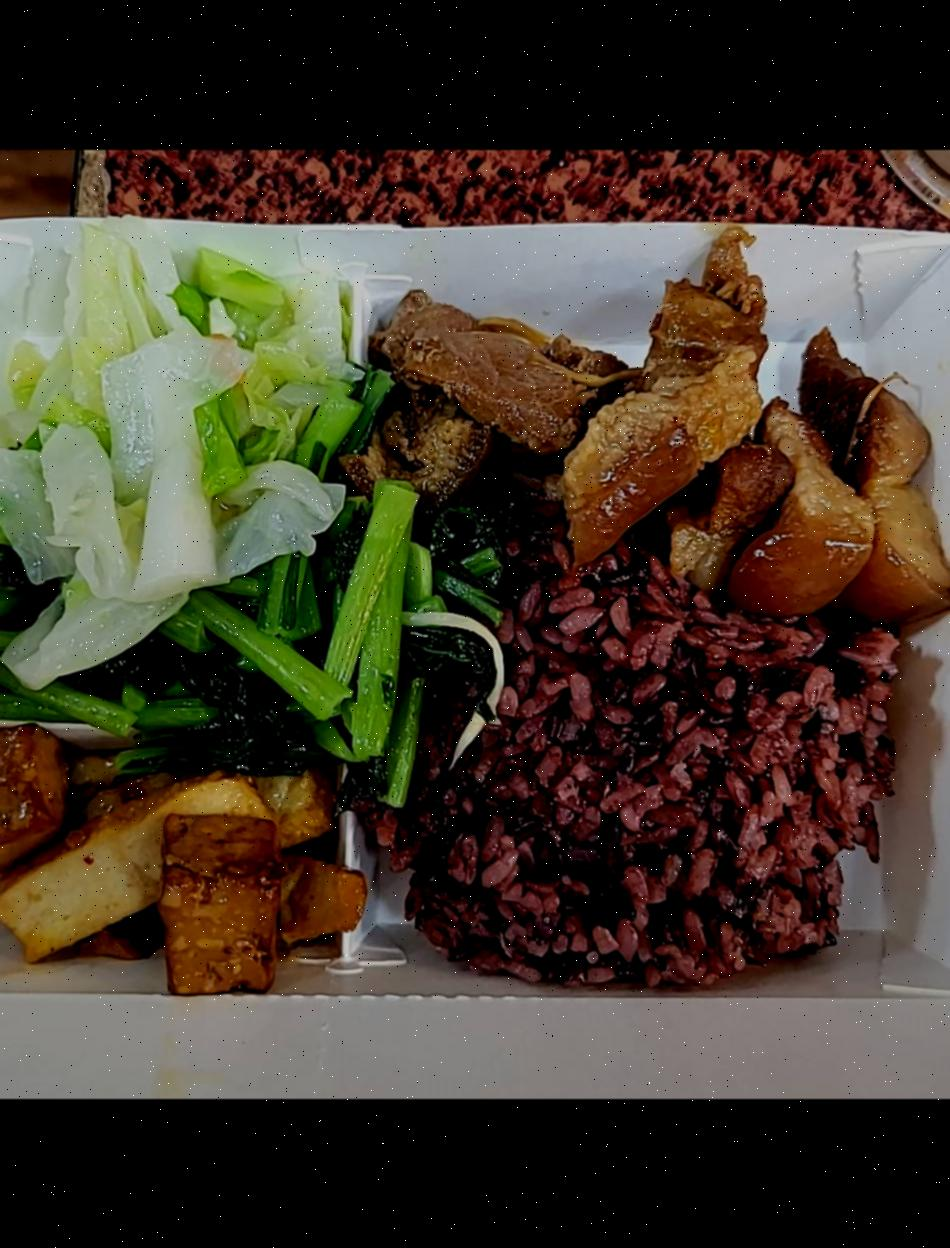big grilled chicken leg: (0, 206, 950, 1048)
braised fish: (366, 488, 912, 988)
braised fish fillet: (0, 464, 428, 770), (0, 250, 329, 648), (0, 718, 358, 998)
braised pork: (379, 268, 950, 608)
